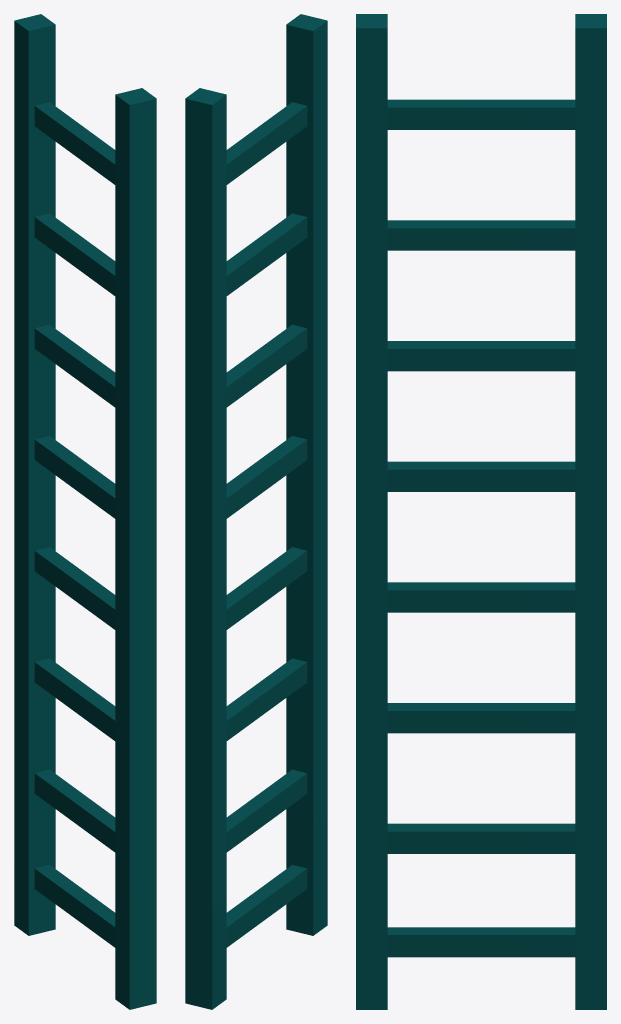
File: FireEscape_C_3.fbx
3 views of the same model, side by side, from view 1: azimuth 30°, elevation 25°; view 2: azimuth 150°, elevation 25°; view 3: azimuth 270°, elevation 25° (orthographic). The views are drawn at different scales.
Parts seen in each view (by area): view 1: FireEscape_C_3; view 2: FireEscape_C_3; view 3: FireEscape_C_3.
Part boxes in pixels (x1=…): FireEscape_C_3: x1=14, y1=14, x2=156, y2=1009; FireEscape_C_3: x1=185, y1=14, x2=327, y2=1009; FireEscape_C_3: x1=356, y1=14, x2=606, y2=1009.
Size of the model in its own units: 9.26 by 296 by 68.63.
